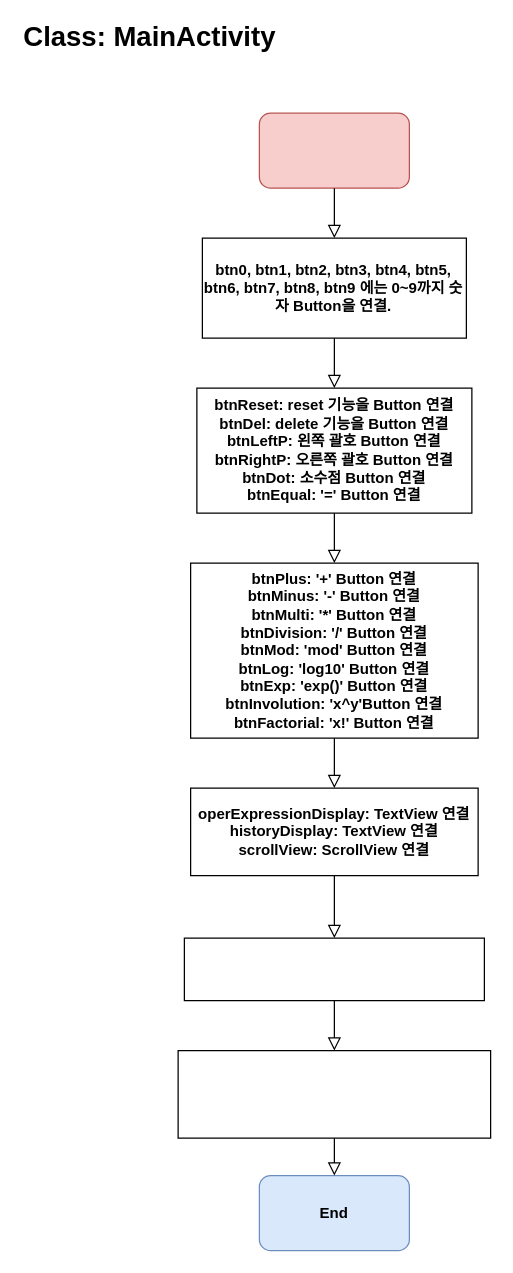
Some shapes in this 513 by 1273 pixel diagram are drawn without their labels. The shapes that lost their labels are listed below. From the top down, each one's centre as x and y in pixels, then its label:
At (x=333, y=150): "Start".
At (x=333, y=969): "InputOutput 객체 생성하여 io 변수에 대입 History 객체 생성하여 history 변수에 대입".
At (x=334, y=1093): "operExpression 변수, input 변수, result 변수 초기화".
